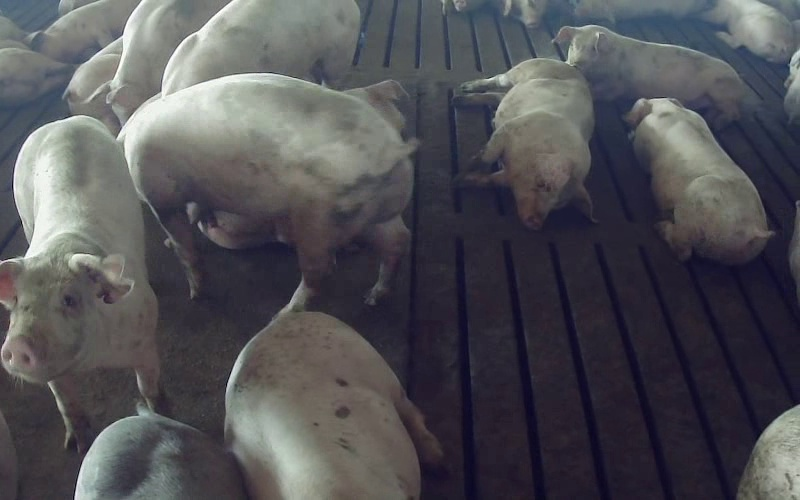pig: (0, 116, 161, 450), (224, 312, 442, 499), (626, 98, 771, 264), (453, 58, 593, 229), (555, 25, 745, 127), (161, 0, 359, 95)
